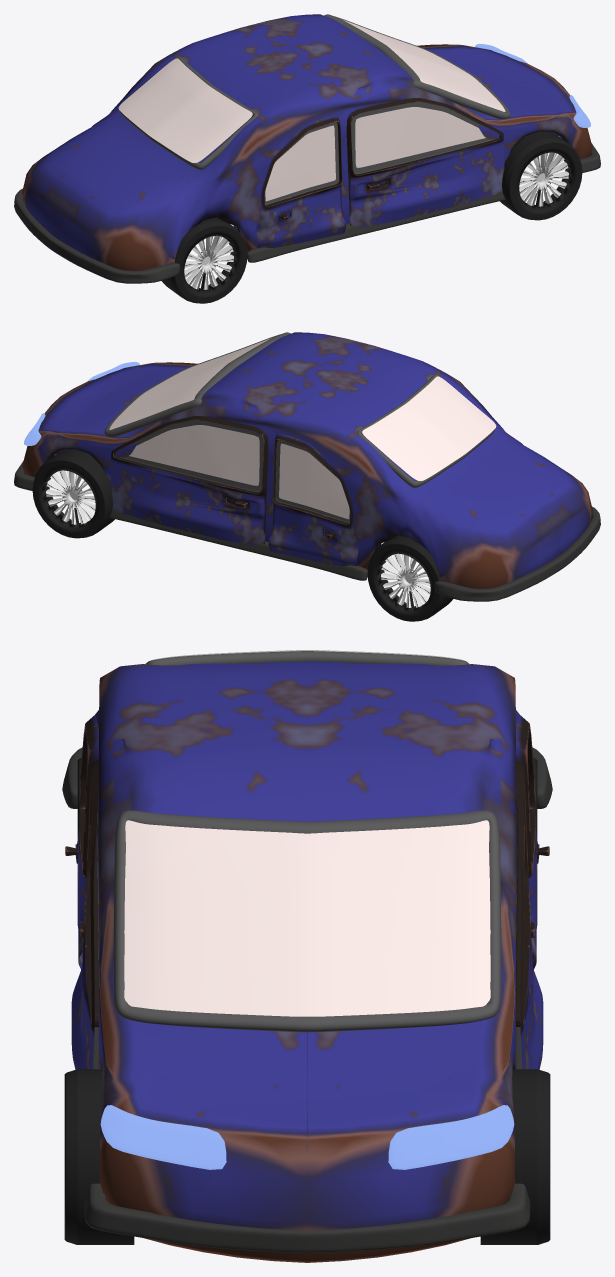
The model's file is ykp toyota yaris (oikeesti corolla) car 2.glb.
3 renders of one model, top to bottom at view 1: azimuth 30°, elevation 25°; view 2: azimuth 150°, elevation 25°; view 3: azimuth 270°, elevation 25°, orthographic. The views are drawn at different scales.
Parts seen in each view (by area): view 1: toyota_Plane.010 Remeshed, toyota_Plane.003, toyota_Plane.004, toyota_Plane.008, toyota_tire.001, toyota_Plane.005, toyota_tire, toyota_Plane.006, toyota_Plane.002, toyota_Plane.007, toyota_Plane.009; view 2: toyota_Plane.010 Remeshed, toyota_Plane.003, toyota_Plane.004, toyota_Plane.008, toyota_tire.001, toyota_Plane.005, toyota_tire, toyota_Plane.006, toyota_Plane.002, toyota_Plane.007, toyota_Plane.009; view 3: toyota_Plane.010 Remeshed, toyota_Plane.006, toyota_Plane.002, toyota_Plane.005, toyota_tire.001, toyota_Plane.003, toyota_Plane.009, toyota_Plane.004, toyota_Plane.007.
Boxes of the visible parts, bbox=[...] form: toyota_Plane.010 Remeshed: bbox=[22, 14, 592, 270]; toyota_Plane.003: bbox=[346, 98, 504, 227]; toyota_Plane.004: bbox=[256, 115, 346, 248]; toyota_Plane.008: bbox=[118, 58, 252, 162]; toyota_tire.001: bbox=[500, 131, 582, 220]; toyota_Plane.005: bbox=[14, 143, 600, 283]; toyota_tire: bbox=[162, 217, 247, 303]; toyota_Plane.006: bbox=[343, 20, 505, 111]; toyota_Plane.002: bbox=[324, 14, 510, 118]; toyota_Plane.007: bbox=[119, 56, 258, 169]; toyota_Plane.009: bbox=[475, 44, 590, 127]; toyota_Plane.010 Remeshed: bbox=[22, 332, 592, 588]; toyota_Plane.003: bbox=[110, 416, 268, 545]; toyota_Plane.004: bbox=[268, 433, 358, 566]; toyota_Plane.008: bbox=[362, 376, 496, 480]; toyota_tire.001: bbox=[32, 449, 114, 538]; toyota_Plane.005: bbox=[14, 461, 600, 601]; toyota_tire: bbox=[367, 535, 452, 621]; toyota_Plane.006: bbox=[109, 338, 271, 429]; toyota_Plane.002: bbox=[104, 332, 290, 436]; toyota_Plane.007: bbox=[356, 374, 495, 487]; toyota_Plane.009: bbox=[24, 362, 139, 445]; toyota_Plane.010 Remeshed: bbox=[81, 661, 533, 1262]; toyota_Plane.006: bbox=[124, 820, 490, 1016]; toyota_Plane.002: bbox=[113, 810, 501, 1032]; toyota_Plane.005: bbox=[62, 747, 552, 1252]; toyota_tire.001: bbox=[64, 1069, 550, 1244]; toyota_Plane.003: bbox=[71, 759, 543, 1069]; toyota_Plane.009: bbox=[100, 1105, 514, 1169]; toyota_Plane.004: bbox=[65, 715, 549, 969]; toyota_Plane.007: bbox=[146, 651, 468, 665].
Bounding box in the file's own units: 6.69 × 2.14 × 2.74.
7 materials, 1 textured.
